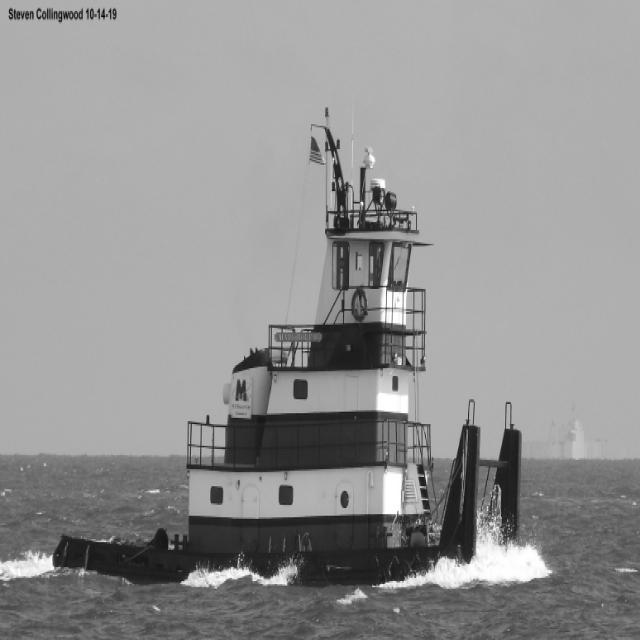tugboat: (44, 100, 529, 613)
